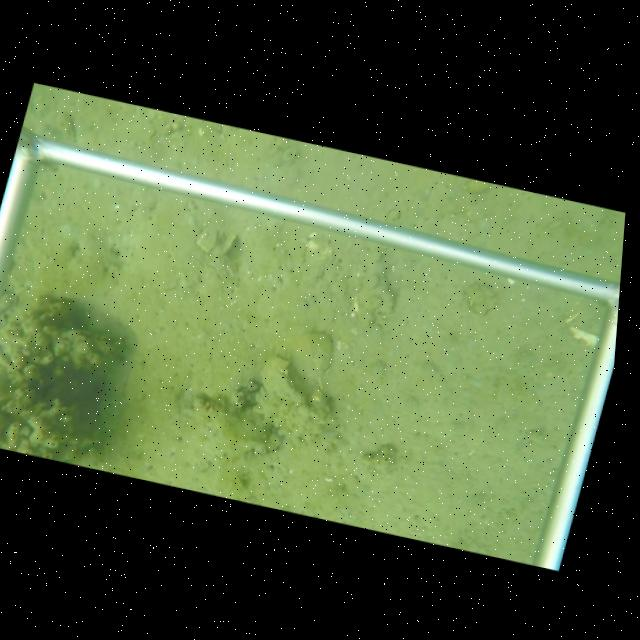Oyster-Closed: (251, 351, 341, 453)
